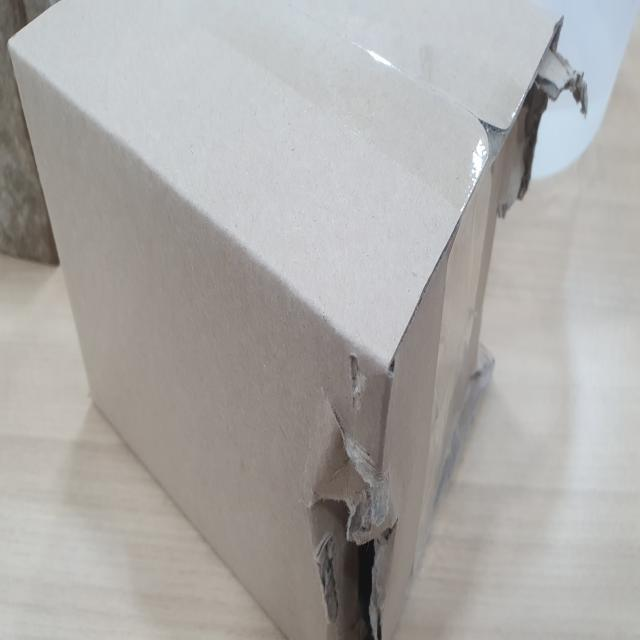hole: (312, 488, 400, 640)
